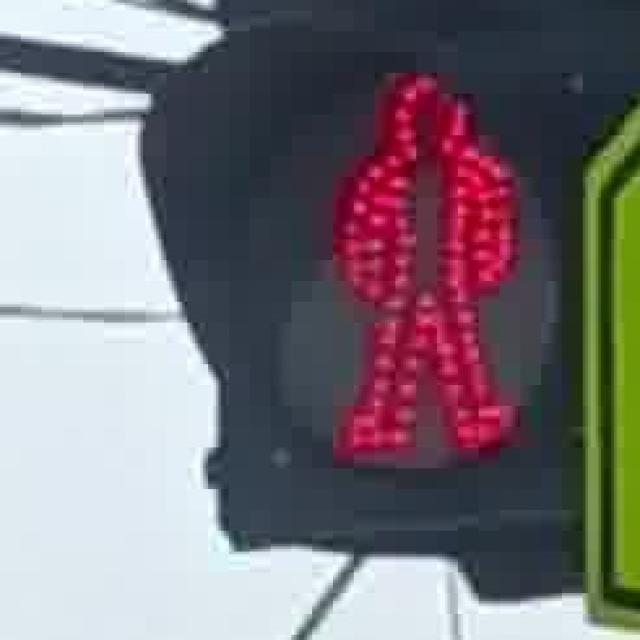red_light: (291, 41, 544, 464)
